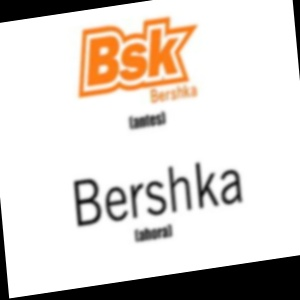bershka: (207, 64, 288, 236), (160, 0, 243, 7)
